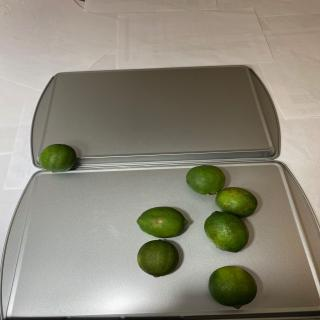Lemon: (208, 266, 257, 309), (204, 210, 249, 252), (136, 206, 188, 238), (137, 240, 179, 278), (215, 186, 258, 218), (186, 164, 226, 194), (38, 144, 77, 172)
